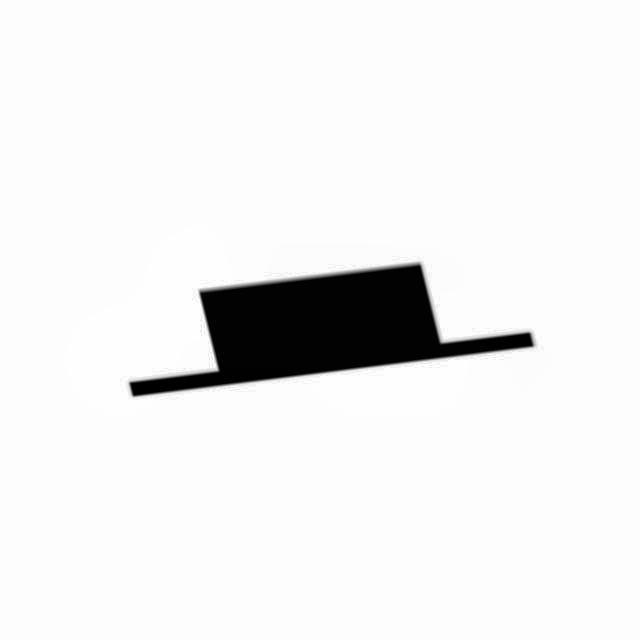Half-rest: (102, 246, 566, 406)
